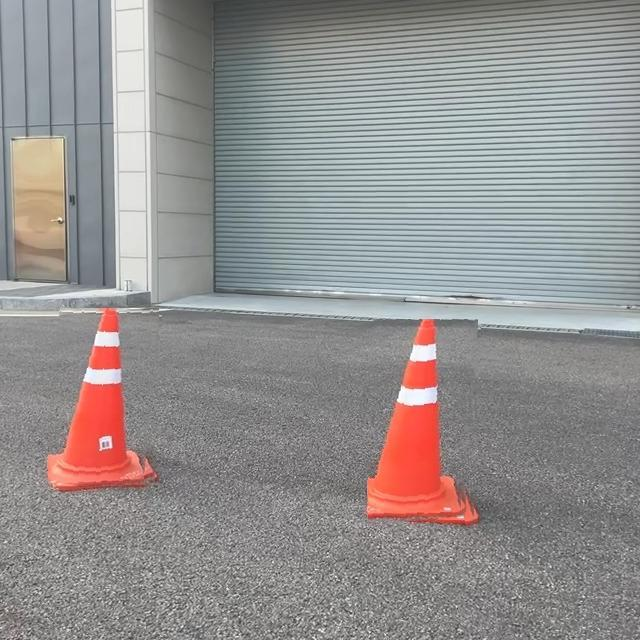fallen_object: (329, 305, 510, 545), (43, 266, 190, 501)
